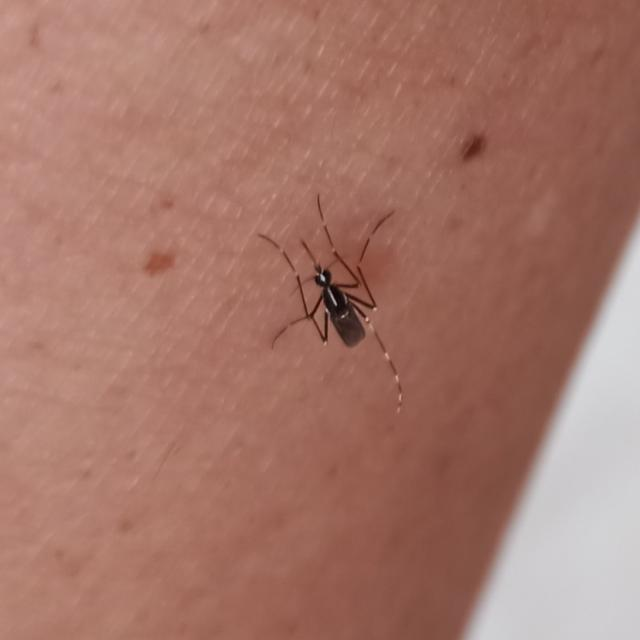albopictus: (248, 183, 413, 410)
